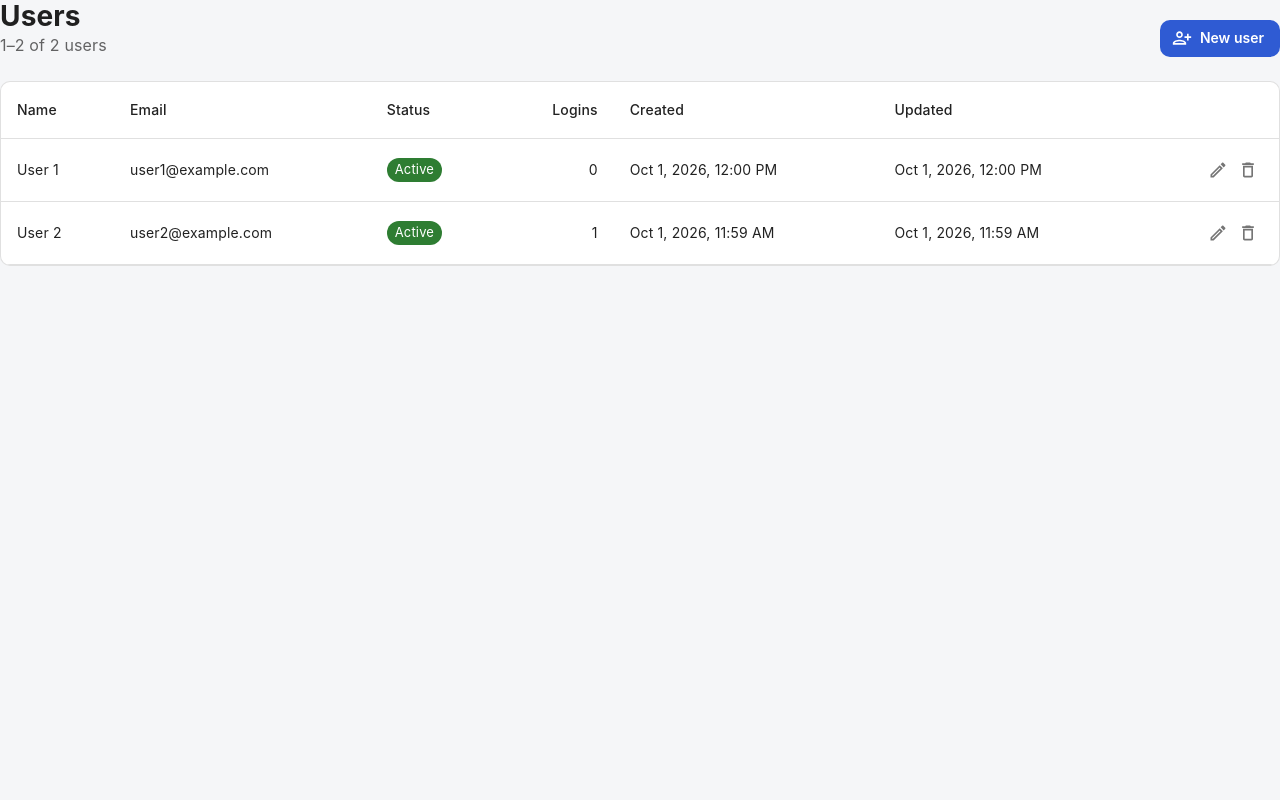
Scenario: UsersDashboard: delete (T7.6, T7.7) › a failed mutation leaves the table unchanged (T7.7)
The width and height of the screenshot is (1280, 800).
Click the button named "Delete User 1" at [1248, 170], box [1233, 155, 1263, 185]
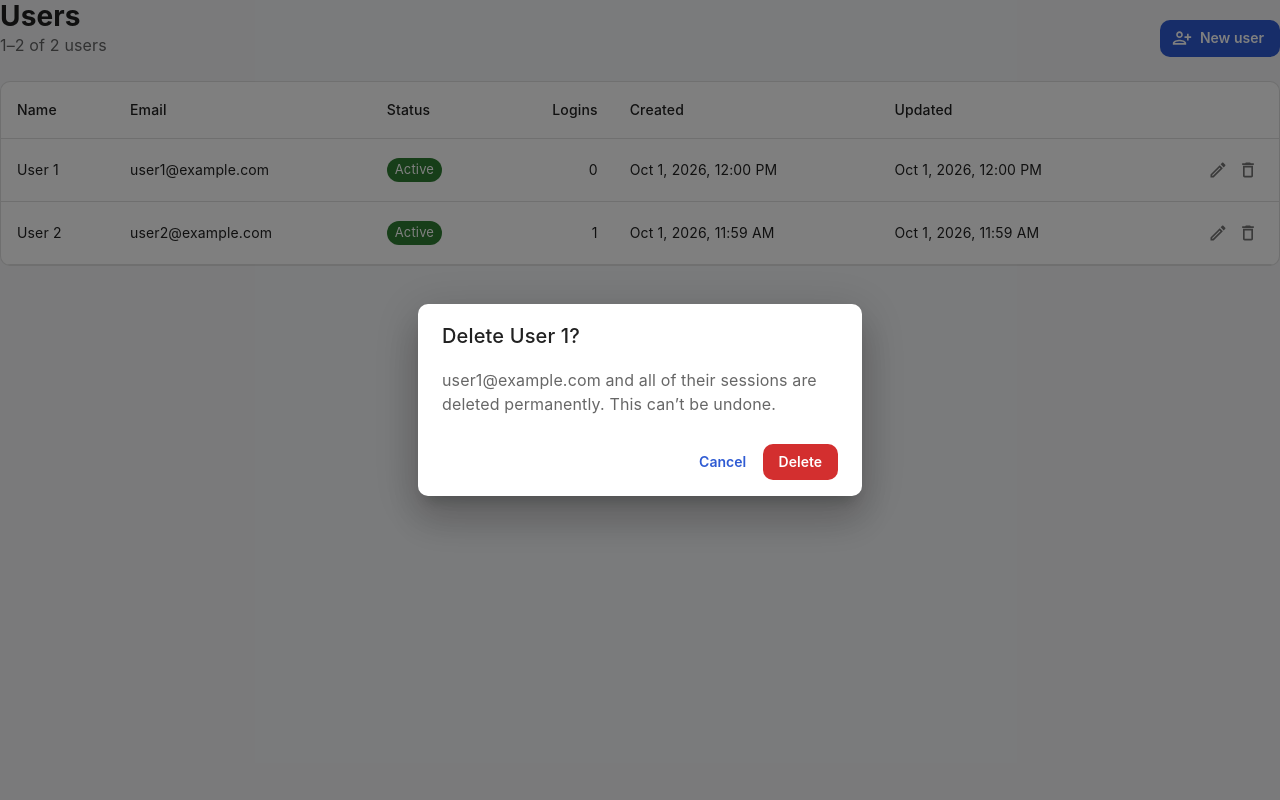
Click the button "Delete" at [800, 462], box [763, 444, 838, 480]
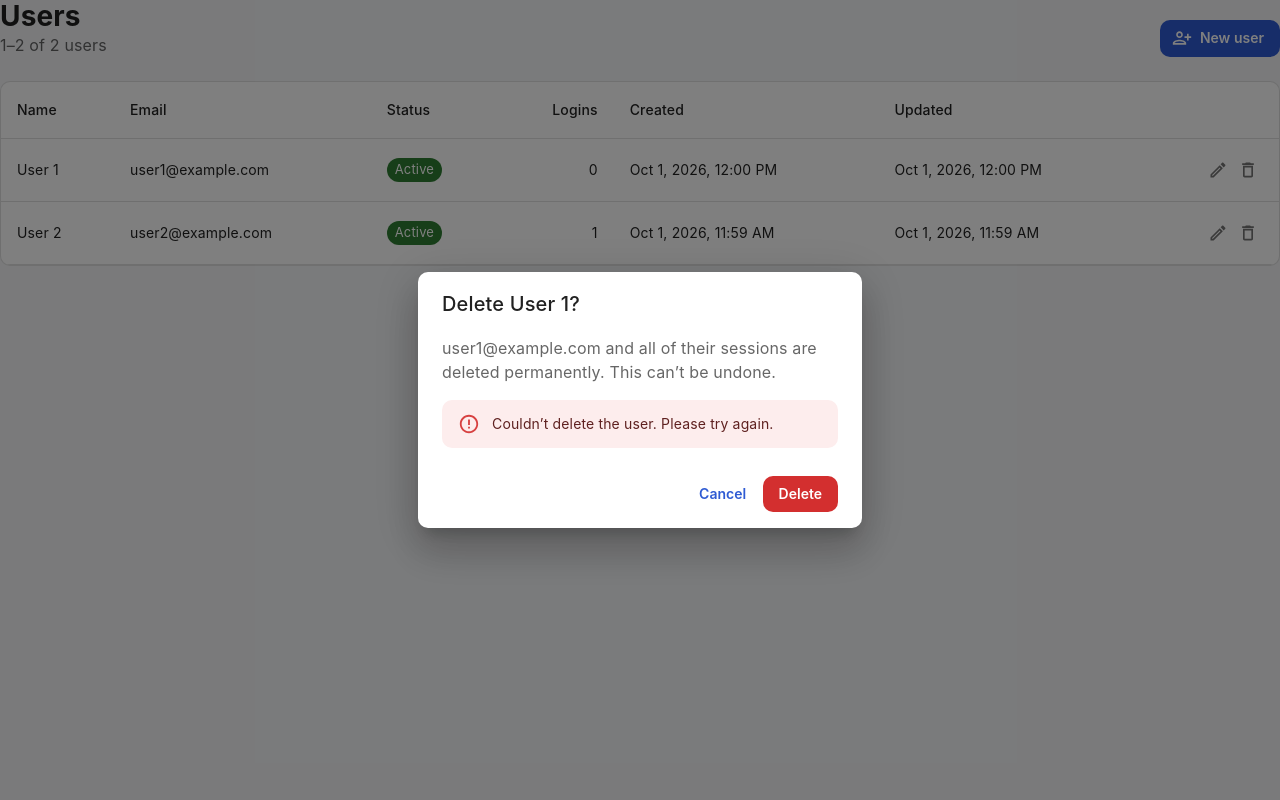
Result: the message shows "Couldn’t delete" at [492, 415, 774, 432]
